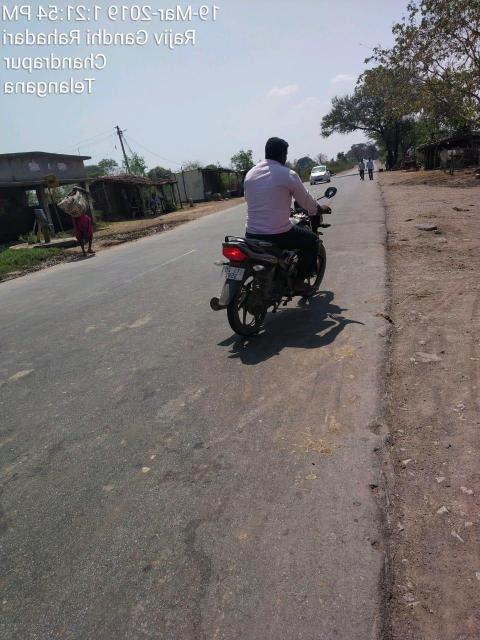motor: (209, 185, 340, 343)
non-helm: (265, 137, 292, 168)
